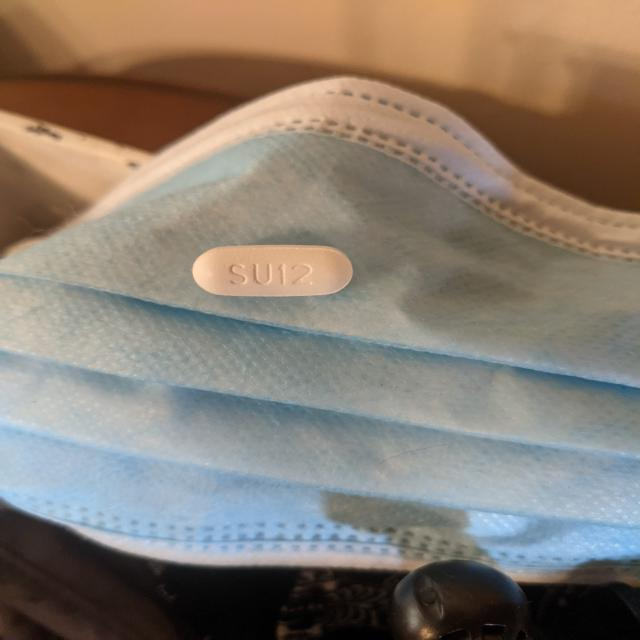non-organic waste: (191, 244, 354, 298)
